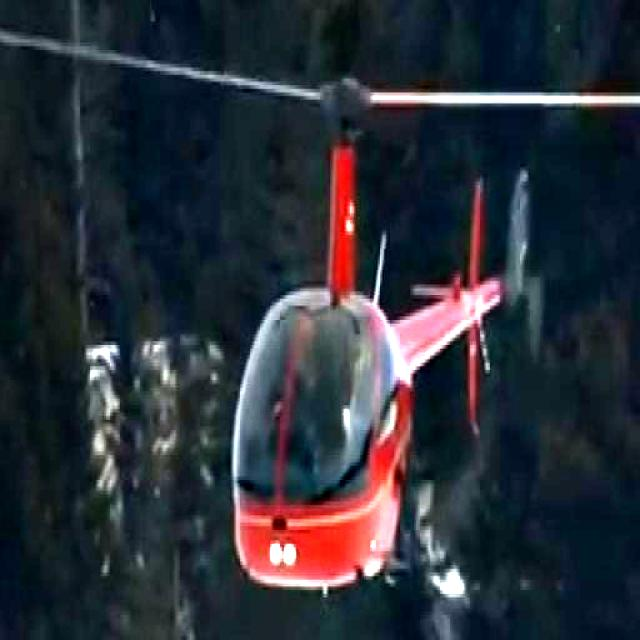drone: (156, 26, 540, 640)
